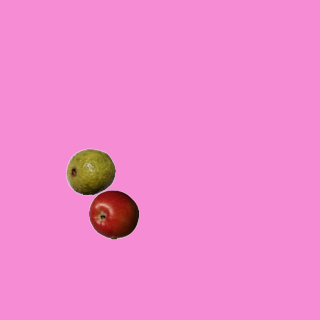Apple Braeburn: (88, 189, 138, 239)
Guava: (65, 146, 115, 196)
